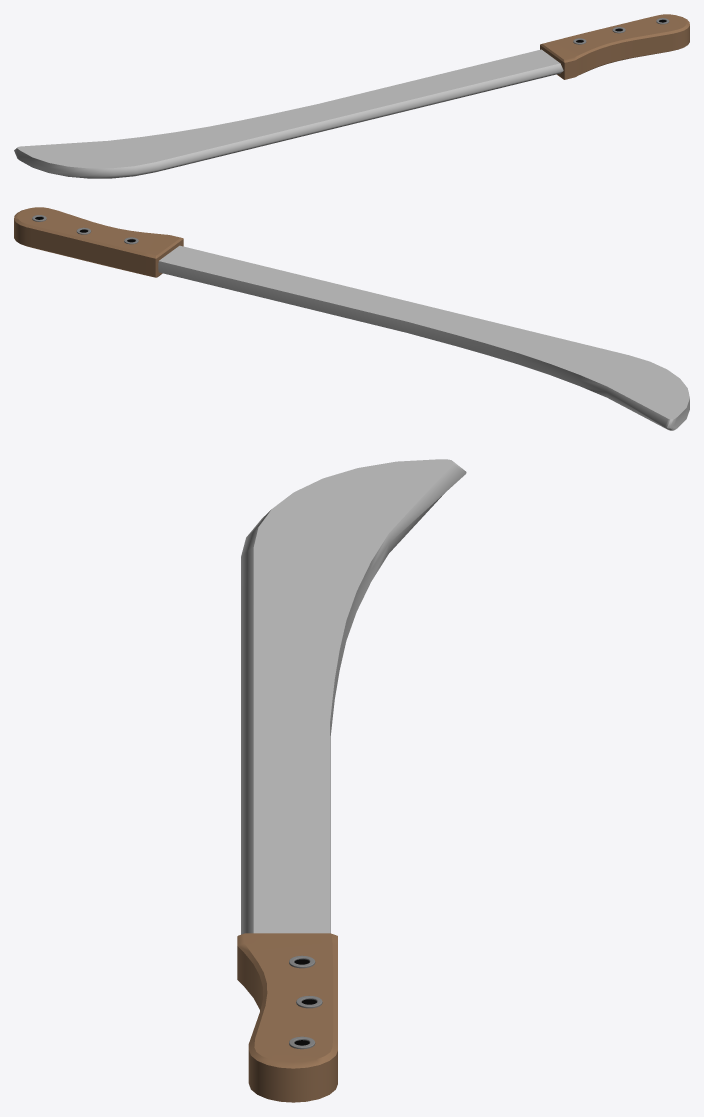
File: Machete.fbx
The picture shows the model from 3 angles, top to bottom: view 1: azimuth 30°, elevation 25°; view 2: azimuth 150°, elevation 25°; view 3: azimuth 270°, elevation 25°; orthographic projection. The views are drawn at different scales.
Parts seen in each view (by area): view 1: pCube2, pCube1; view 2: pCube2, pCube1; view 3: pCube2, pCube1.
Boxes of the visible parts, left/top/right/bottom form: pCube2: left=14, top=49, right=563, bottom=178; pCube1: left=540, top=14, right=689, bottom=79; pCube2: left=158, top=245, right=689, bottom=430; pCube1: left=14, top=207, right=183, bottom=277; pCube2: left=241, top=459, right=466, bottom=934; pCube1: left=237, top=933, right=337, bottom=1102.
Size of the model in its own units: 6.59 by 0.219 by 1.04.
